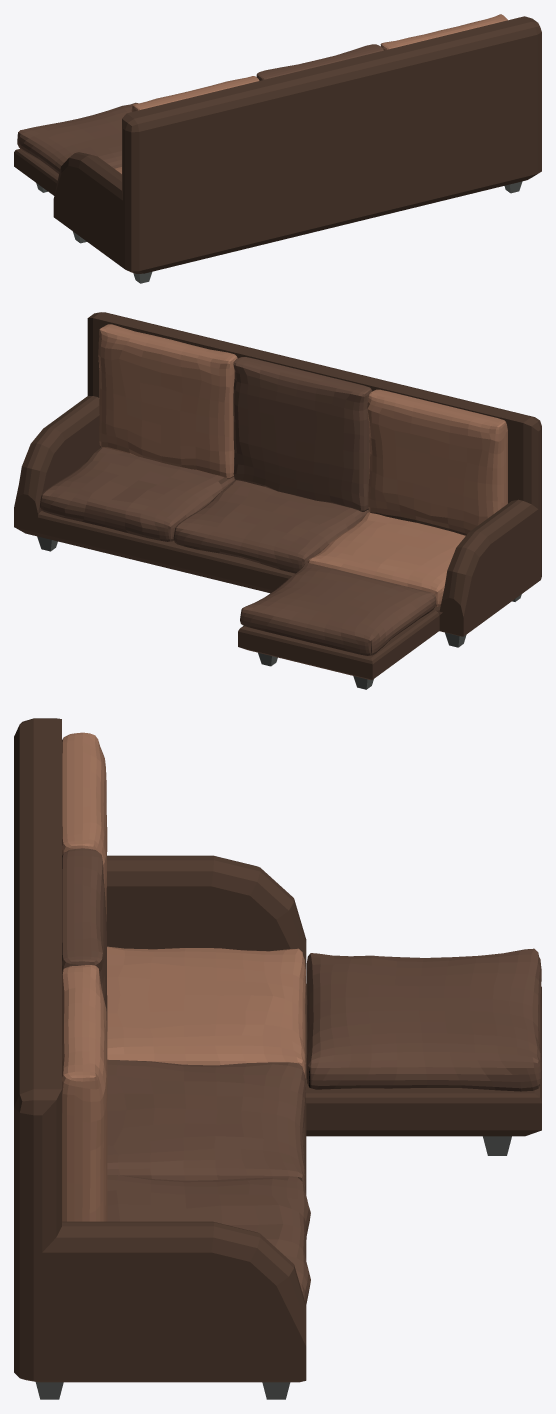
The model's file is Sofa.fbx.
The picture shows the model from 3 angles, top to bottom: view 1: azimuth 30°, elevation 25°; view 2: azimuth 150°, elevation 25°; view 3: azimuth 270°, elevation 25°; orthographic projection. The views are drawn at different scales.
Visible parts, largest first — view 1: Cube.076; view 2: Cube.076; view 3: Cube.076.
Boxes of the visible parts, x1,y1,x2,y2 form: Cube.076: (14,14,541,283); Cube.076: (14,312,541,689); Cube.076: (14,718,541,1399).
Bounding box in the file's own units: 347 × 134 × 200.
